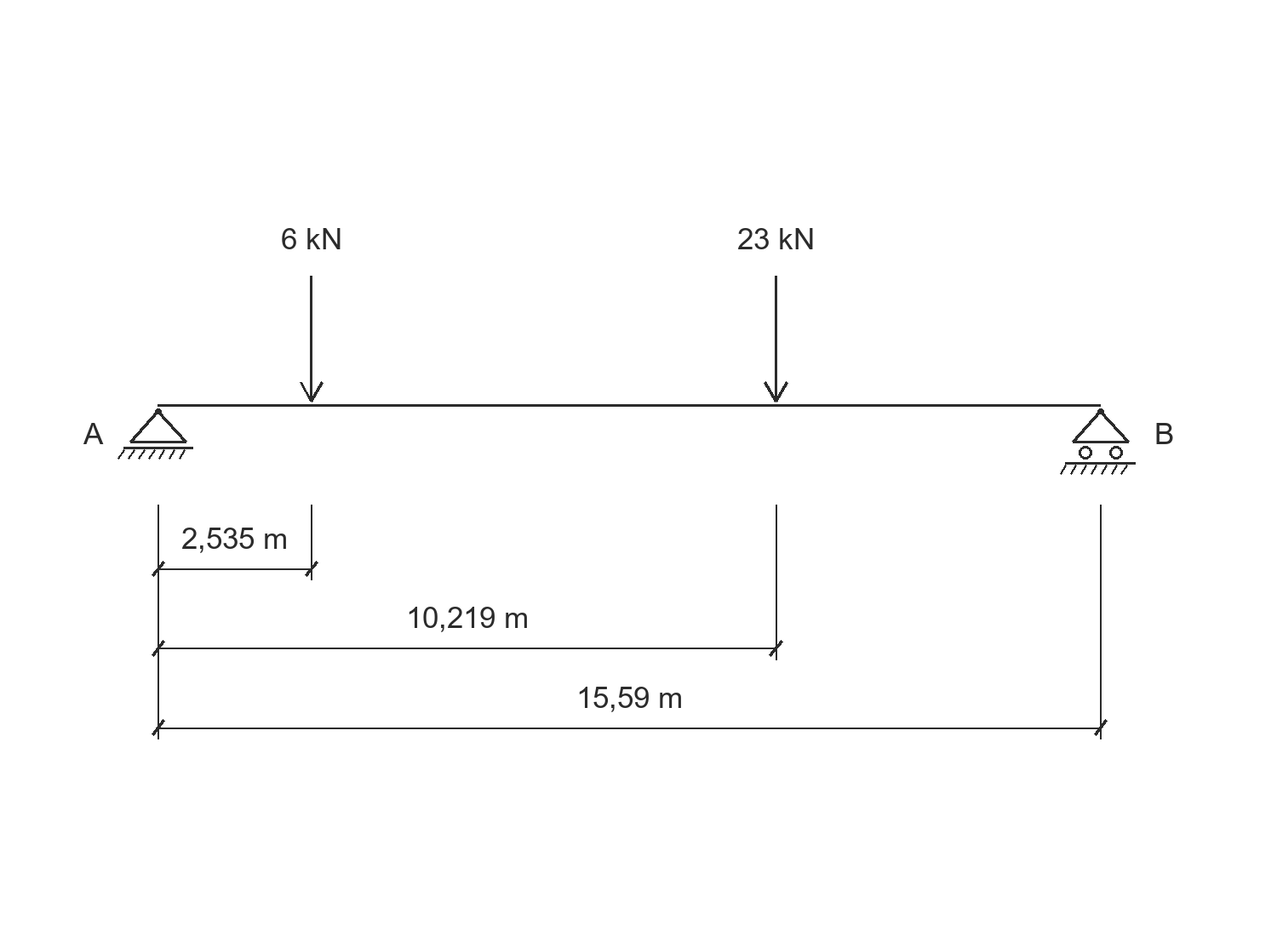pin_support: (117, 408, 193, 459)
point_load: (300, 276, 324, 402), (764, 276, 788, 402)
roller_support: (1060, 408, 1136, 475)
